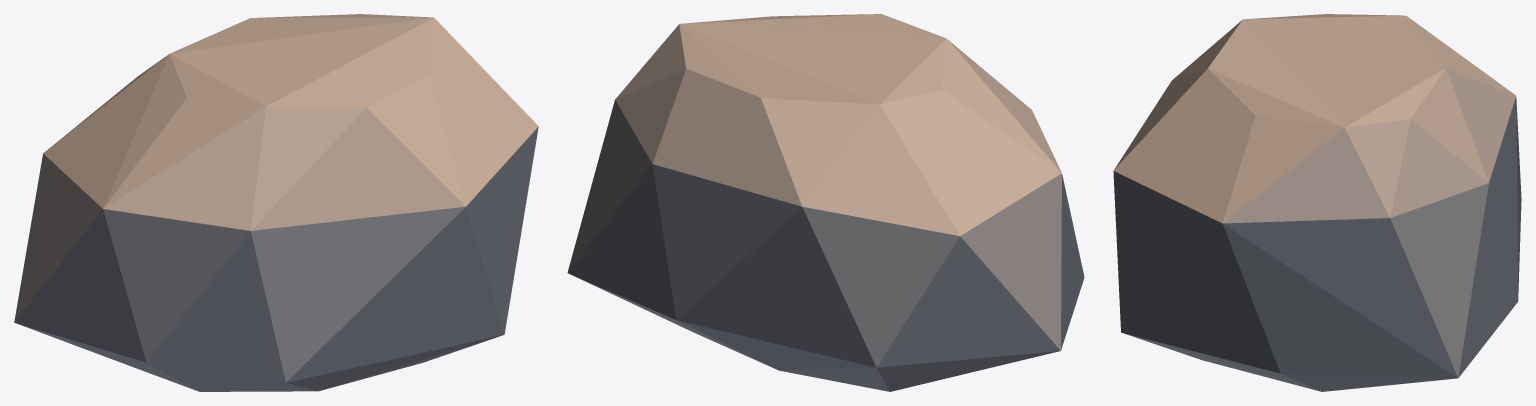
The model's file is rock_small.fbx.
3 views of the same model, side by side, from view 1: azimuth 30°, elevation 25°; view 2: azimuth 150°, elevation 25°; view 3: azimuth 270°, elevation 25° (orthographic).
Parts seen in each view (by area): view 1: rock_small; view 2: rock_small; view 3: rock_small.
Part boxes in pixels (<box>): rock_small: <box>14,14,538,391</box>; rock_small: <box>567,14,1084,391</box>; rock_small: <box>1113,14,1521,391</box>.
Bounding box in the file's own units: 0.8742 × 0.5 × 0.6745.
